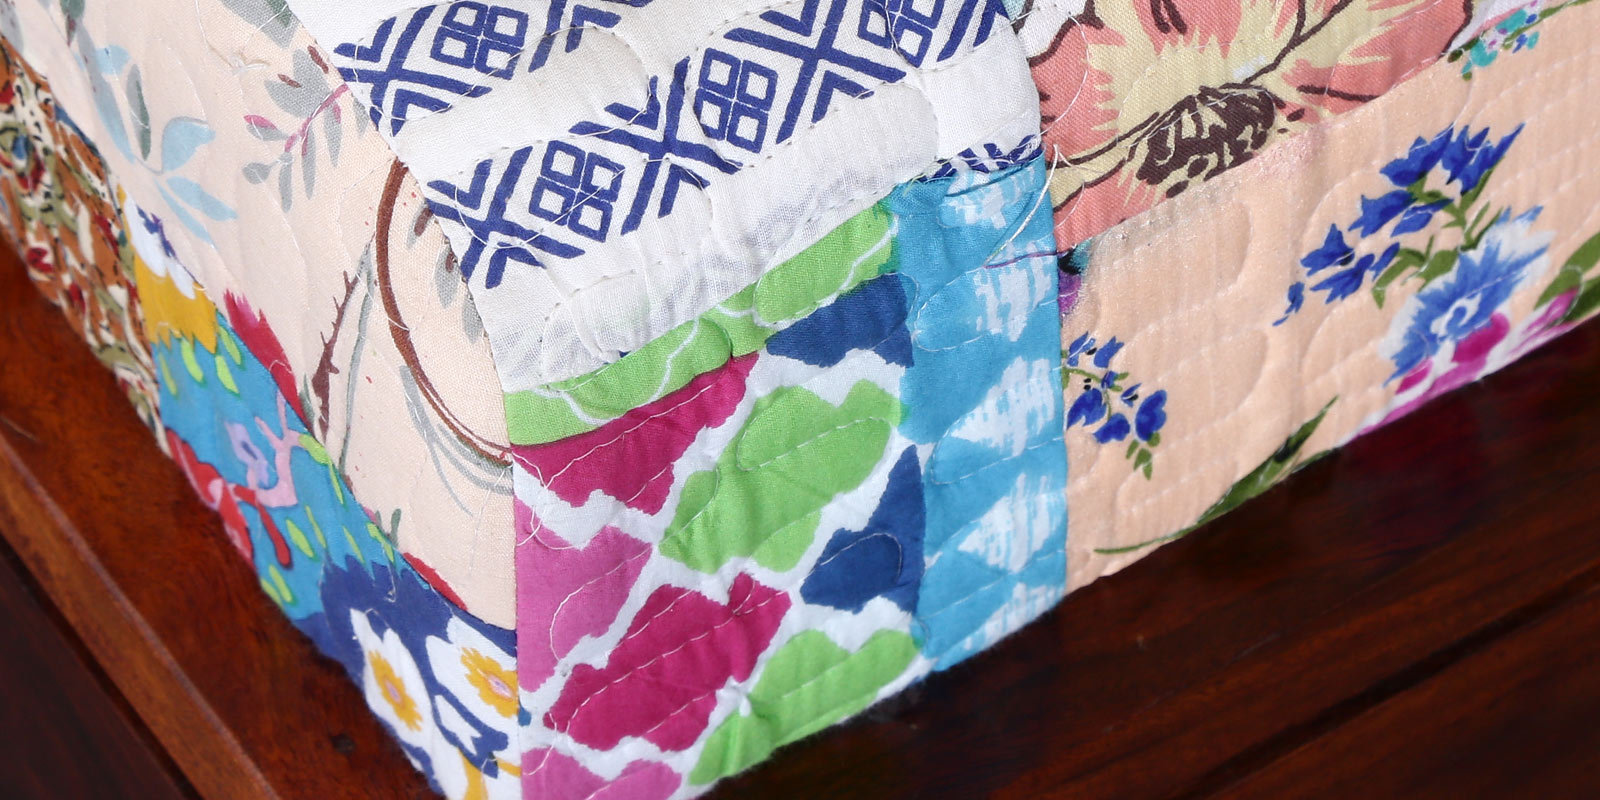Hayden Three Seater Sofa in Honey Oak Finish by Bohemiana: (5, 5, 1600, 800)
